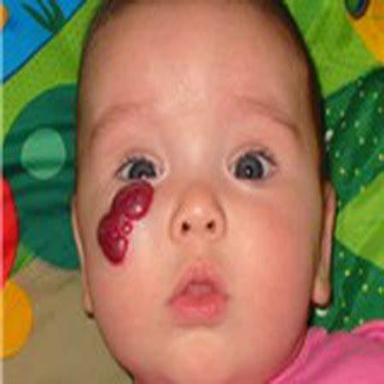Hemangiome: (97, 181, 154, 264)
